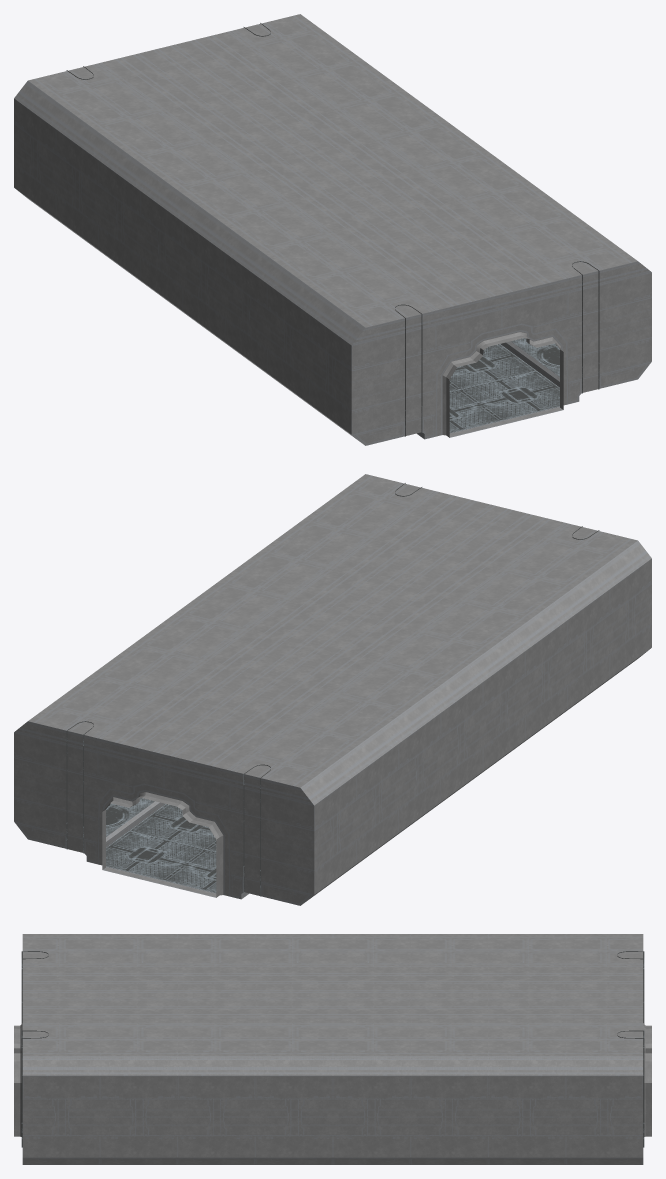
File: Room1.FBX
3 renders of one model, top to bottom at view 1: azimuth 30°, elevation 25°; view 2: azimuth 150°, elevation 25°; view 3: azimuth 270°, elevation 25°, orthographic. The views are drawn at different scales.
Visible parts, largest first — view 1: Box001; view 2: Box001; view 3: Box001.
Boxes of the visible parts, bbox=[...] form: Box001: bbox=[14, 14, 651, 445]; Box001: bbox=[14, 474, 651, 905]; Box001: bbox=[14, 934, 651, 1164].
Size of the model in its own units: 1252 by 505 by 2506.
